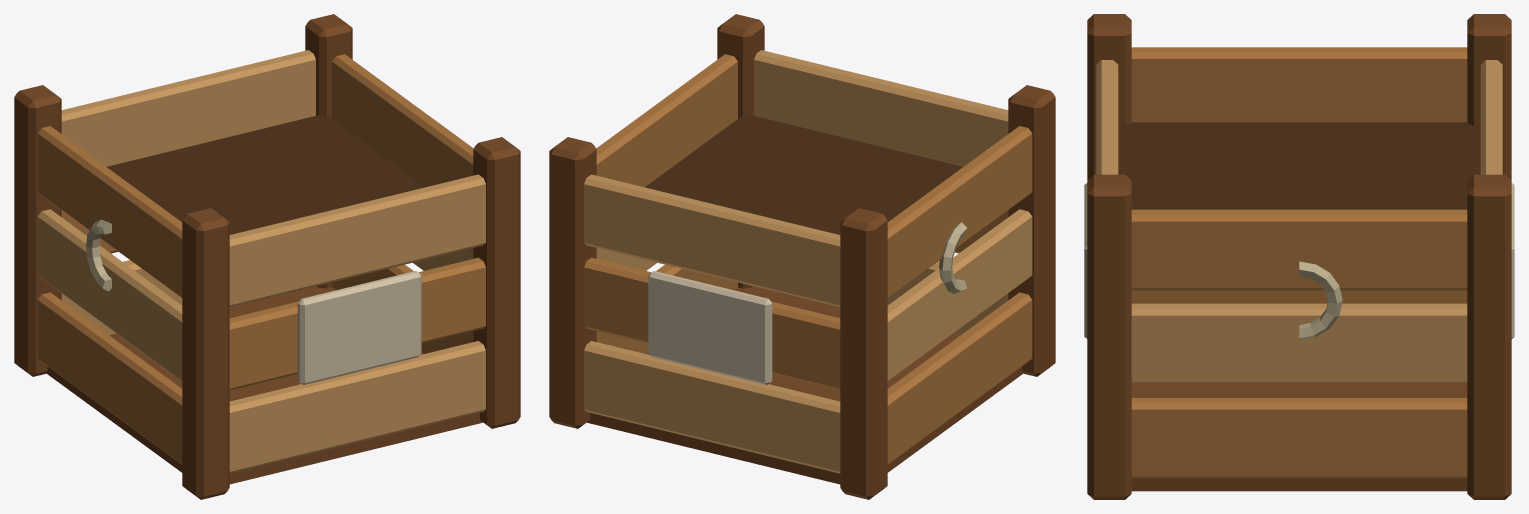
Rendered from crate.glb.
The picture shows the model from 3 angles, left to right: view 1: azimuth 30°, elevation 25°; view 2: azimuth 150°, elevation 25°; view 3: azimuth 270°, elevation 25°; orthographic projection. The views are drawn at different scales.
Parts seen in each view (by area): view 1: crate; view 2: crate; view 3: crate.
Boxes of the visible parts, x1,y1,x2,y2 form: crate: (14,14,520,499); crate: (549,14,1055,499); crate: (1084,14,1514,499).
Bounding box in the file's own units: 0.9742 × 0.78 × 0.974.
